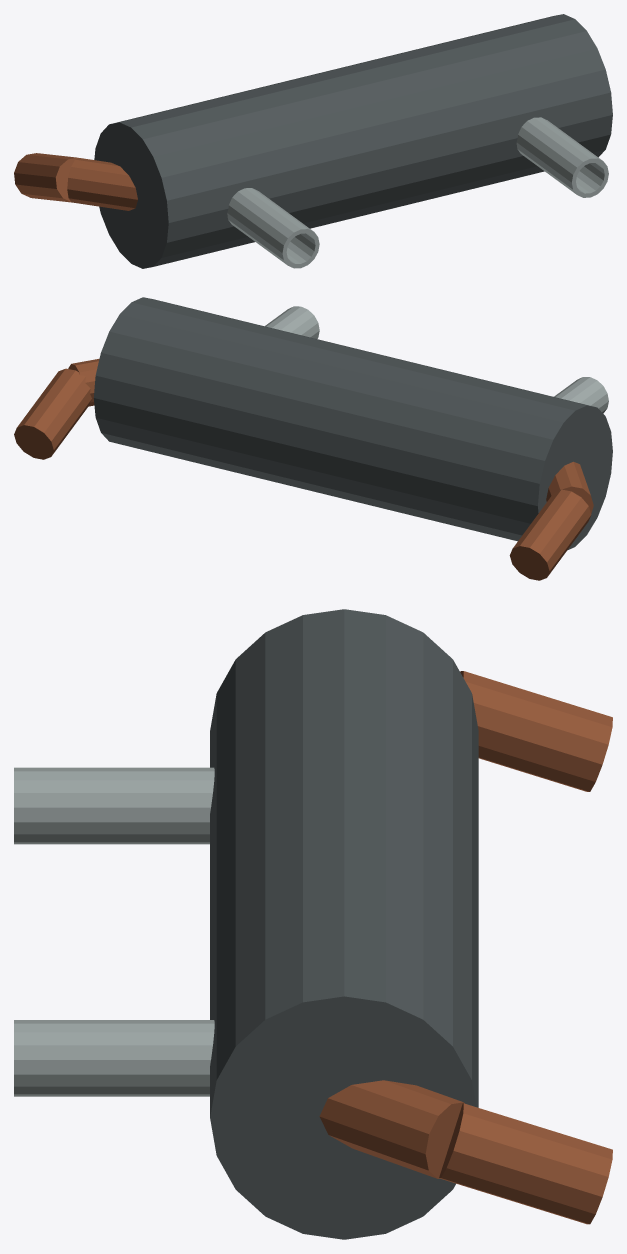
File: ENG_Exhaust.glb
3 renders of one model, top to bottom at view 1: azimuth 30°, elevation 25°; view 2: azimuth 150°, elevation 25°; view 3: azimuth 270°, elevation 25°, orthographic. The views are drawn at different scales.
Visible parts, largest first — view 1: Silencer, Tailpipes, Inlets; view 2: Silencer, Inlets, Tailpipes; view 3: Silencer, Inlets, Tailpipes.
Boxes of the visible parts, x1,y1,x2,y2 form: Silencer: [94, 14, 612, 268]; Tailpipes: [227, 117, 608, 268]; Inlets: [14, 153, 137, 210]; Silencer: [93, 297, 612, 550]; Inlets: [14, 358, 593, 580]; Tailpipes: [265, 306, 608, 413]; Silencer: [210, 609, 478, 1239]; Inlets: [319, 671, 612, 1224]; Tailpipes: [14, 767, 214, 1096].
Size of the model in its own units: 0.5173 by 0.126 by 0.281.
